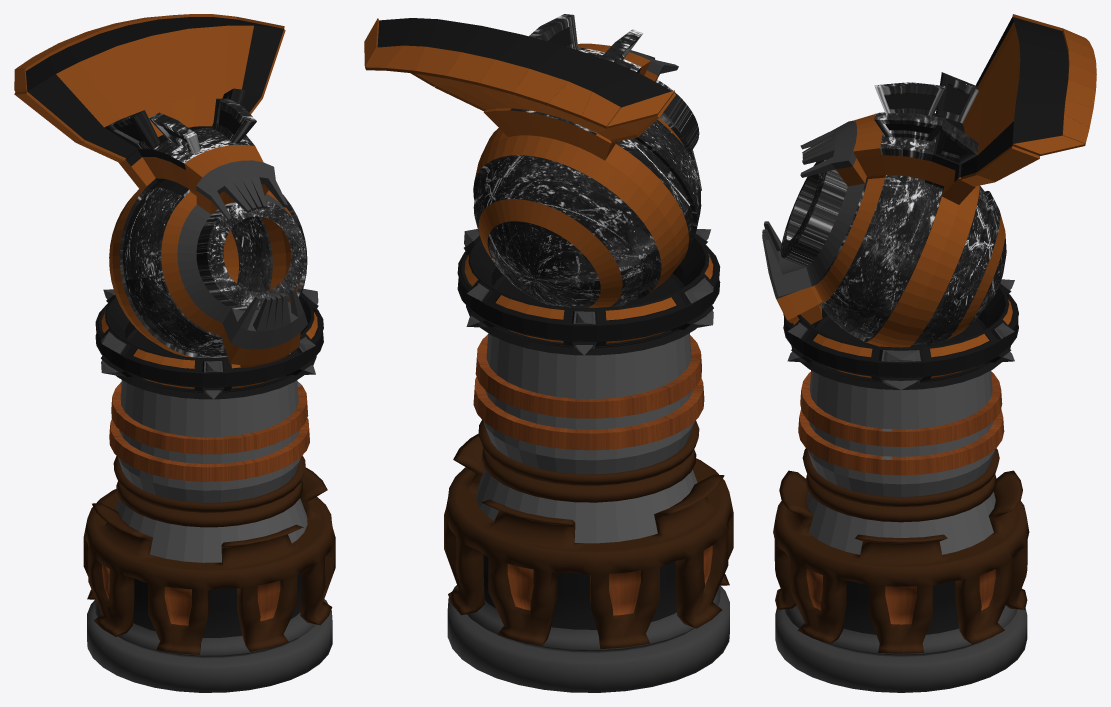
File: BombTower1.glb
3 renders of one model, left to right at view 1: azimuth 30°, elevation 25°; view 2: azimuth 150°, elevation 25°; view 3: azimuth 270°, elevation 25°, orthographic. The views are drawn at different scales.
Visible parts, largest first — view 1: Cylinder.008; view 2: Cylinder.008; view 3: Cylinder.008.
Boxes of the visible parts, box(x1,y1,x2,y2) form: Cylinder.008: box(14, 14, 335, 692); Cylinder.008: box(364, 14, 733, 692); Cylinder.008: box(762, 14, 1096, 692).
Size of the model in its own units: 3.85 by 7.99 by 4.17.
Materials: 8 (2 with a texture image).
